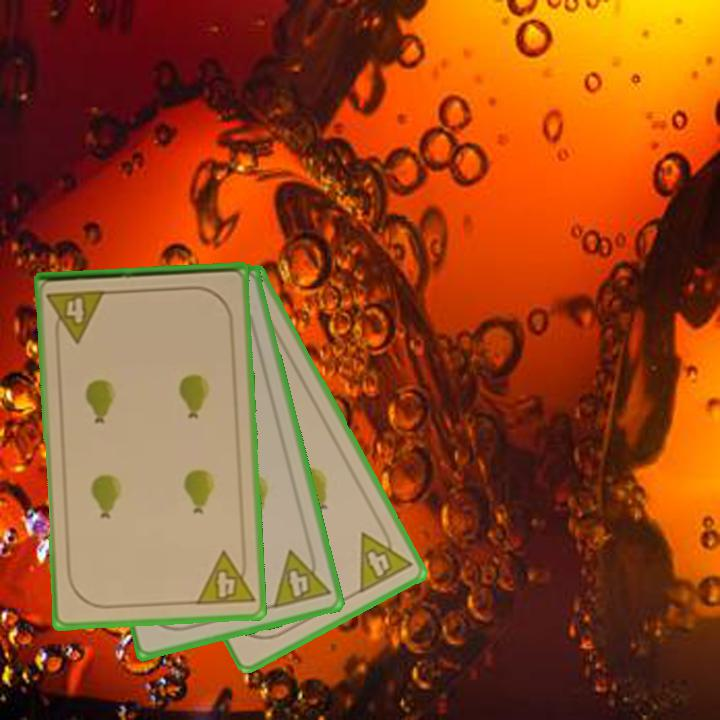4p: (355, 519, 415, 597), (269, 542, 333, 612), (192, 547, 257, 608), (44, 286, 109, 346)
